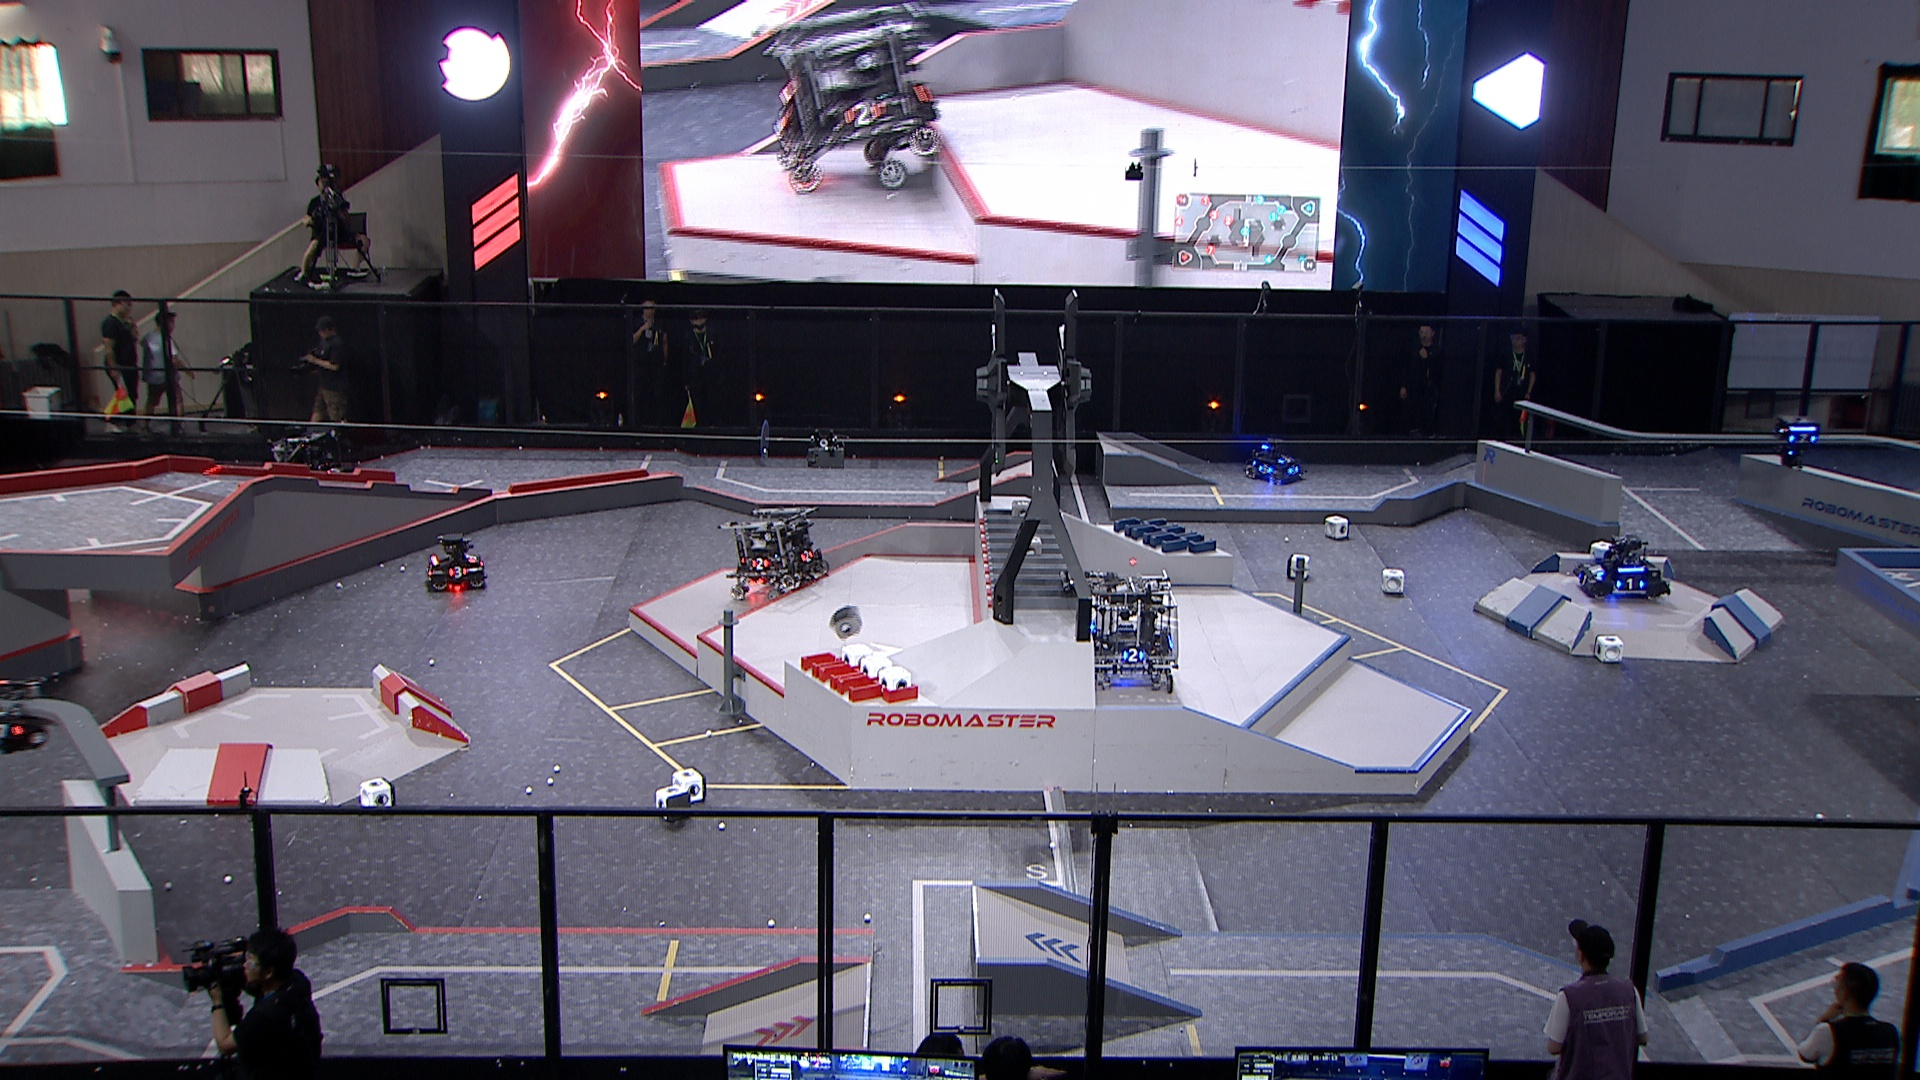armor: (1613, 576, 1646, 591), (1788, 433, 1820, 446), (1122, 646, 1145, 665), (750, 556, 771, 571), (448, 564, 469, 578), (1575, 571, 1593, 585), (799, 547, 814, 564), (1255, 462, 1273, 475), (1276, 454, 1295, 465), (1588, 564, 1605, 576), (465, 551, 479, 564), (1286, 463, 1300, 475)
car: (1065, 564, 1182, 695), (713, 500, 827, 603), (264, 429, 359, 509), (1575, 527, 1671, 604), (425, 531, 487, 593), (1244, 436, 1311, 485)
ignore: (760, 1, 945, 200)
watcher: (1774, 411, 1822, 471)
